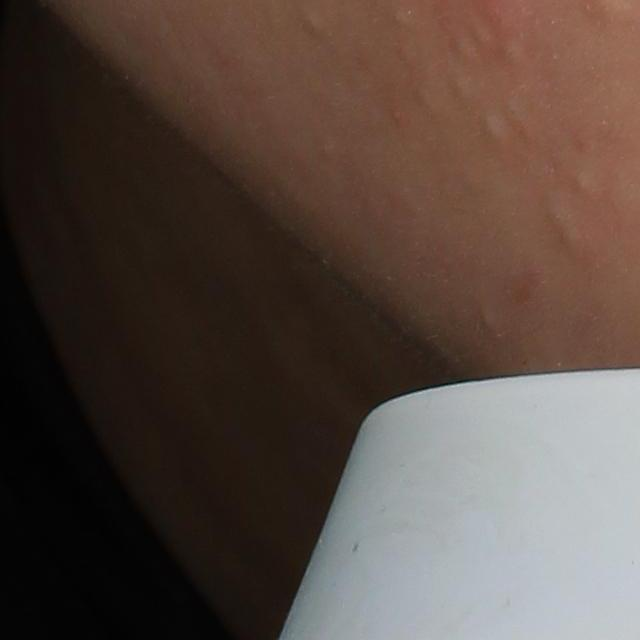comedo: (479, 114, 506, 150), (543, 196, 570, 231), (299, 8, 326, 39), (560, 226, 585, 254), (476, 307, 498, 335), (573, 169, 594, 195), (410, 88, 432, 112), (451, 76, 469, 101), (389, 8, 408, 29), (504, 41, 521, 64)
